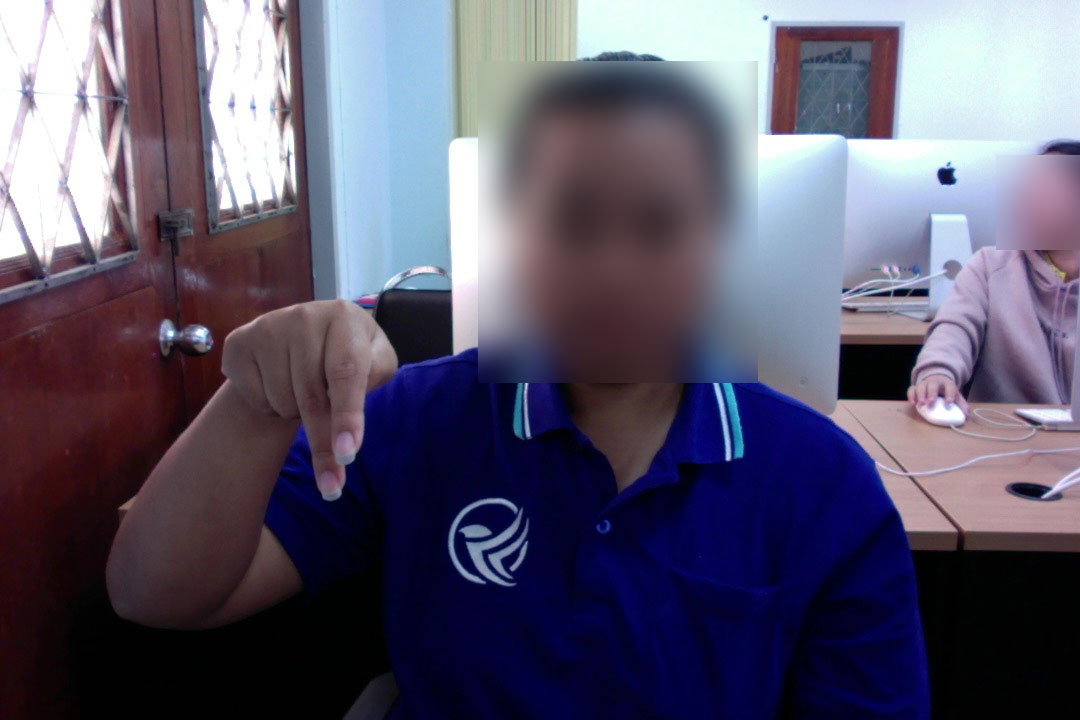por: (207, 287, 408, 511)
